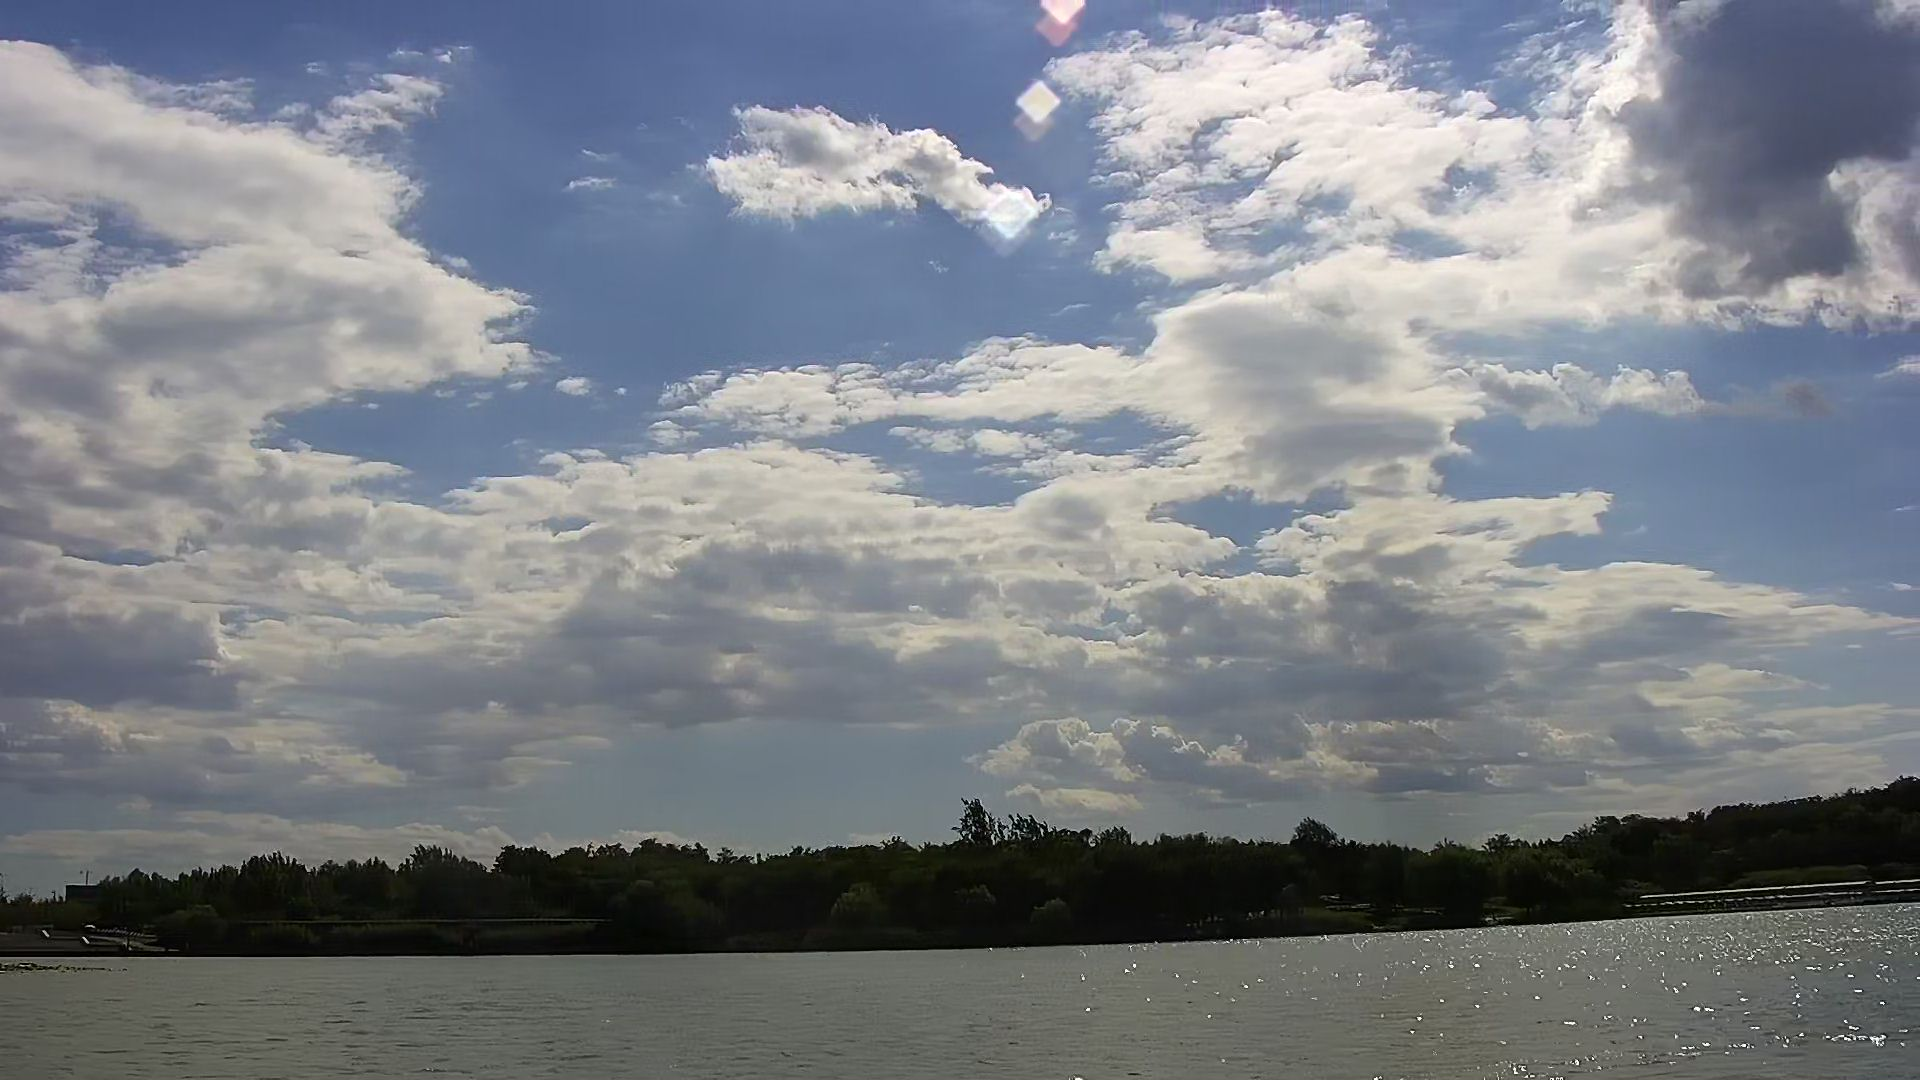harbor: (1622, 865, 1920, 914), (3, 918, 167, 960)
